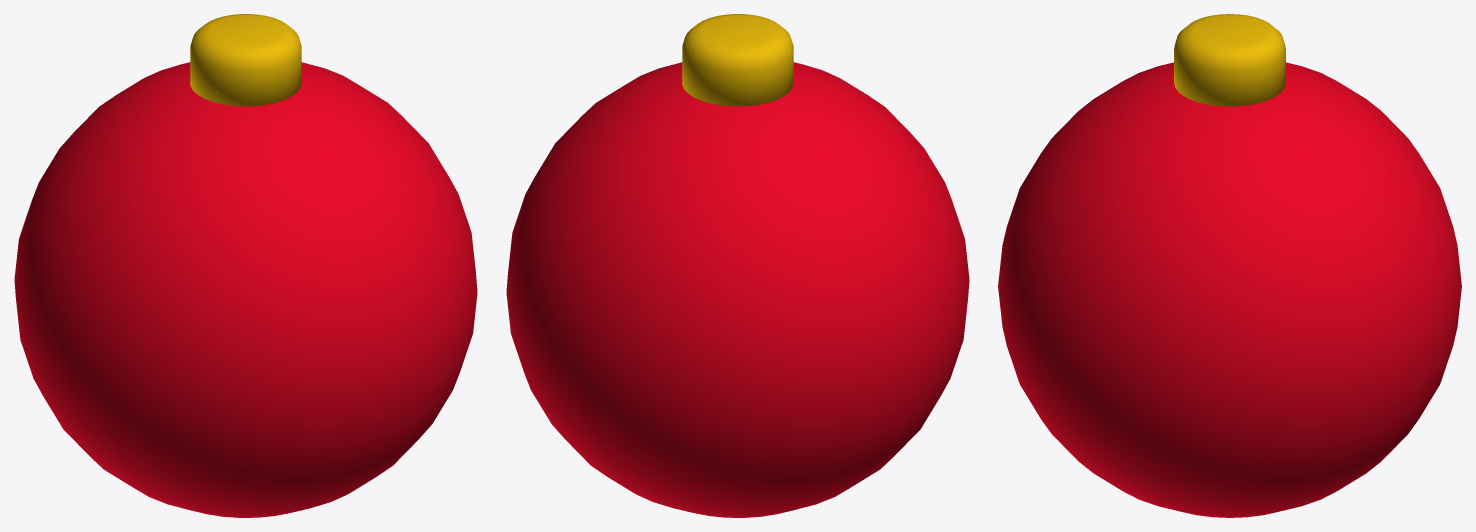
The model's file is Bomb.fbx.
3 renders of one model, left to right at view 1: azimuth 30°, elevation 25°; view 2: azimuth 150°, elevation 25°; view 3: azimuth 270°, elevation 25°, orthographic.
Visible parts, largest first — view 1: Sphere, Cylinder; view 2: Sphere, Cylinder; view 3: Sphere, Cylinder.
Part boxes in pixels (left/top/right/bottom): Sphere: left=14, top=62, right=477, bottom=517; Cylinder: left=190, top=14, right=301, bottom=106; Sphere: left=506, top=62, right=969, bottom=517; Cylinder: left=682, top=14, right=793, bottom=106; Sphere: left=998, top=62, right=1461, bottom=517; Cylinder: left=1174, top=14, right=1285, bottom=106.
Size of the model in its own units: 200 by 221 by 200.
